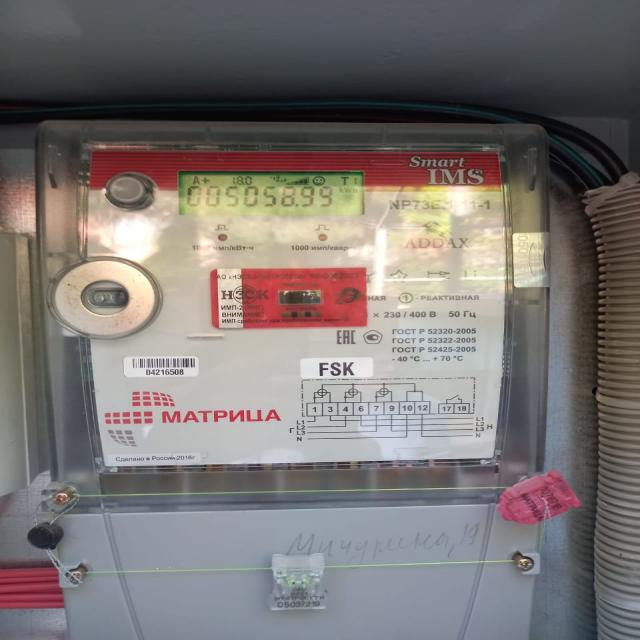Display: (178, 171, 366, 220)
meter_matrica: (32, 115, 565, 622)
meter_number: (119, 355, 202, 377)
seal_elso: (263, 548, 333, 613)
seal_imp: (212, 267, 368, 331)
